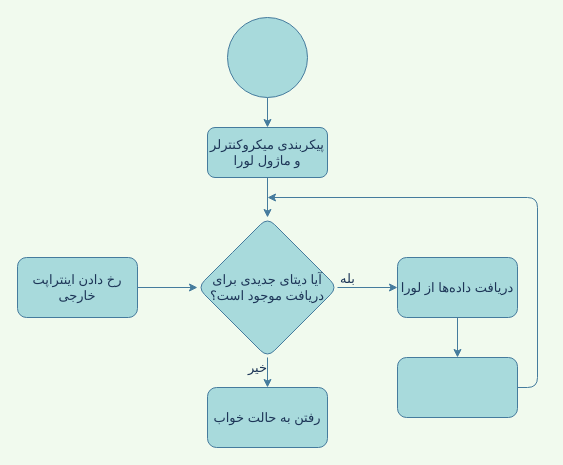
This 563x465 diagram has some shape labels left out. Each missing label, with the centre of its shape:
"ارسال داده‌ها به رایانه از طریق USB" belongs at [457,387].
"شروع" belongs at [267,57].
